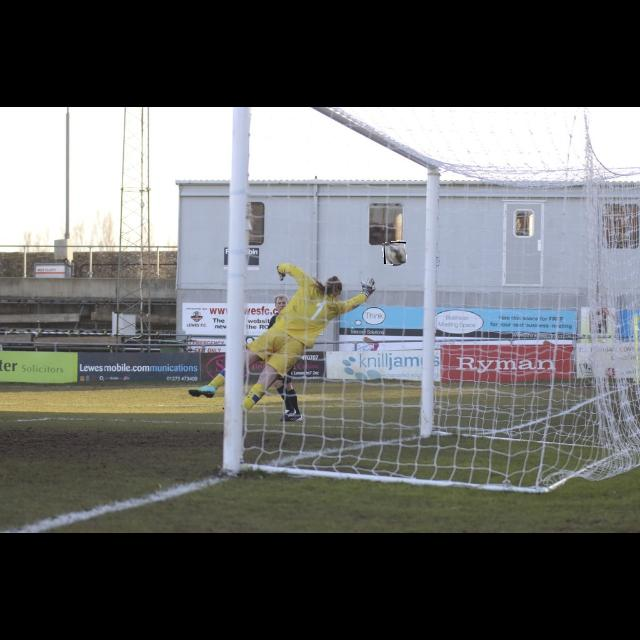Football: (384, 242, 406, 264)
